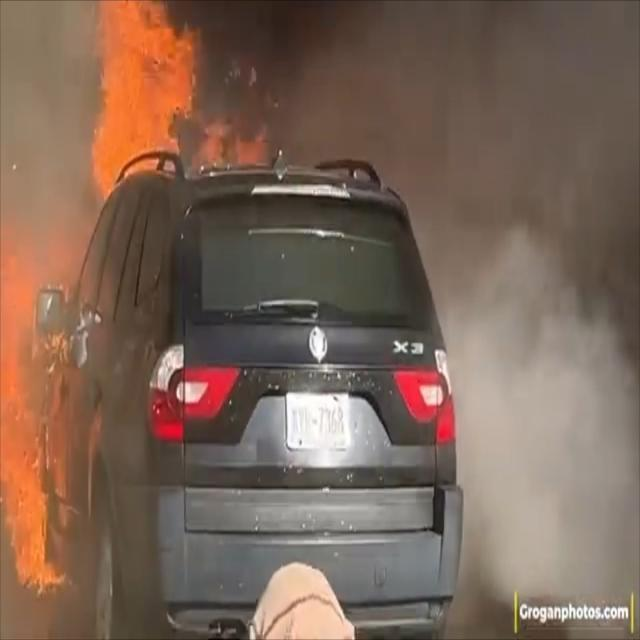fire: (78, 7, 276, 190), (0, 228, 93, 590)
